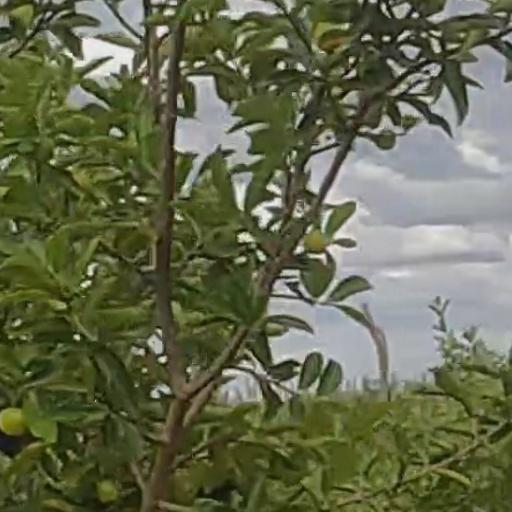acerola_verde: (1, 407, 28, 436)
